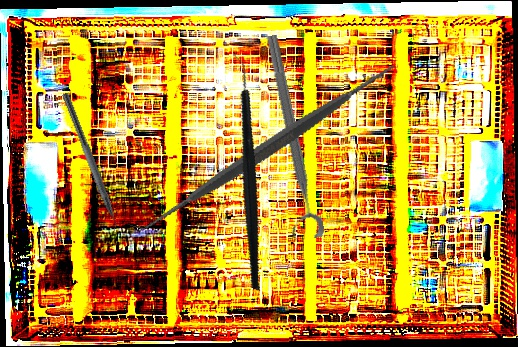Chopper: (164, 52, 325, 291), (51, 92, 127, 242)
Fixation Ring: (249, 33, 326, 243)
Spatula Surgical: (125, 4, 411, 291)
